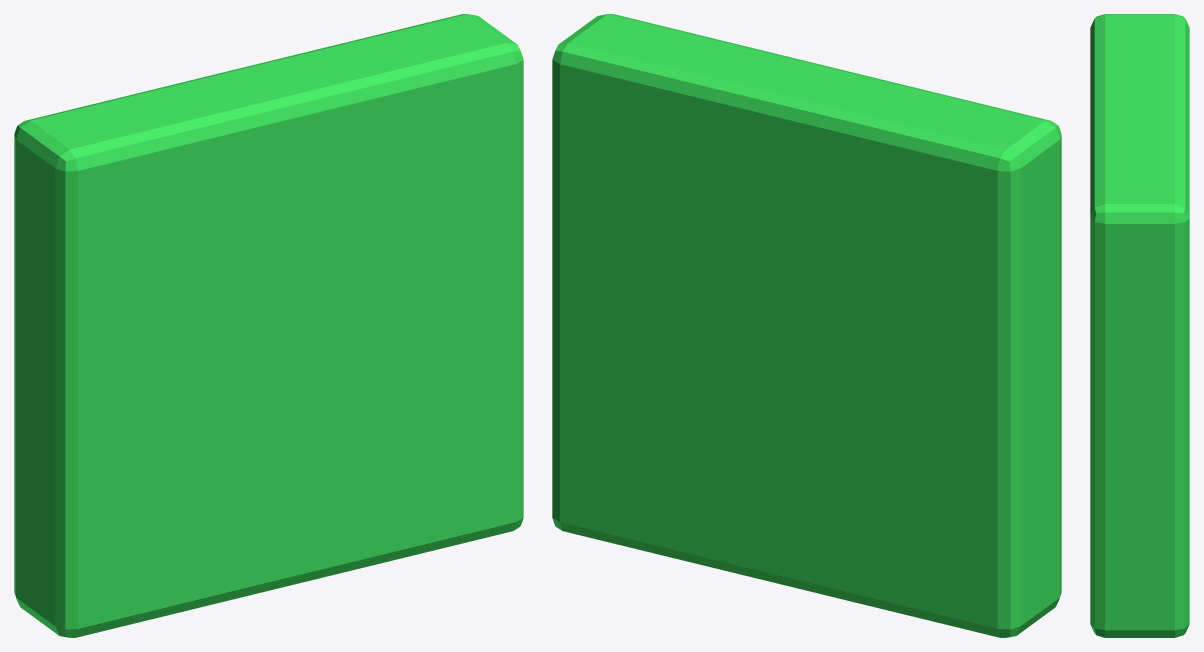
The model's file is push_button_1.glb.
3 renders of one model, left to right at view 1: azimuth 30°, elevation 25°; view 2: azimuth 150°, elevation 25°; view 3: azimuth 270°, elevation 25°, orthographic. The views are drawn at different scales.
Visible parts, largest first — view 1: button_3_lens.001; view 2: button_3_lens.001; view 3: button_3_lens.001.
Part boxes in pixels (left/top/right/bottom): button_3_lens.001: left=14, top=14, right=523, bottom=637; button_3_lens.001: left=552, top=14, right=1061, bottom=637; button_3_lens.001: left=1090, top=14, right=1189, bottom=637.
Size of the model in its own units: 0.0096 by 0.0096 by 0.002.
